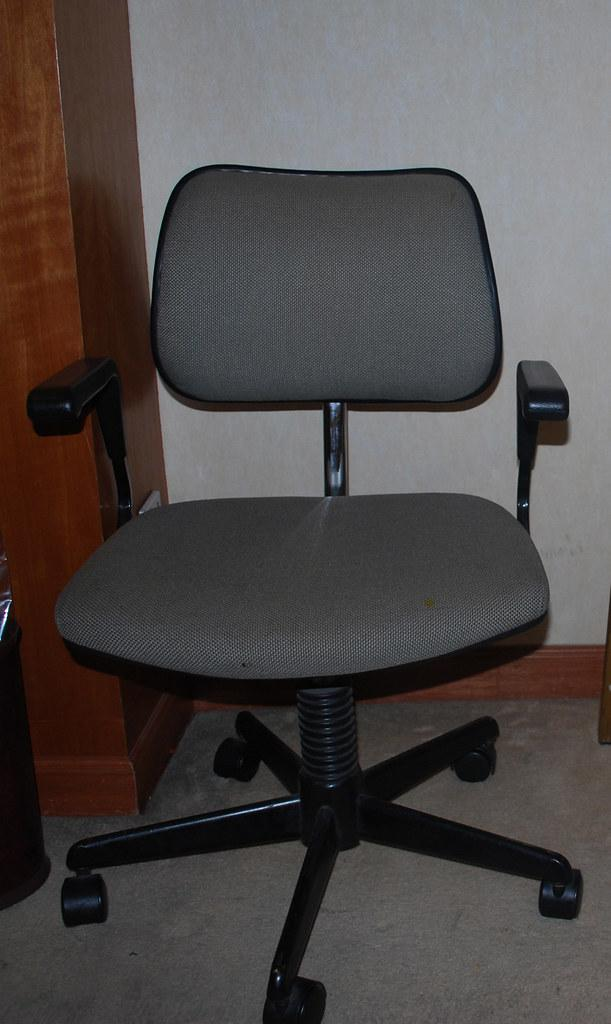chair: (28, 162, 584, 1023)
